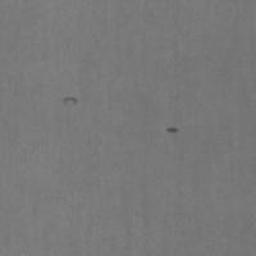Inclusion: (63, 97, 78, 105), (166, 125, 179, 133)
